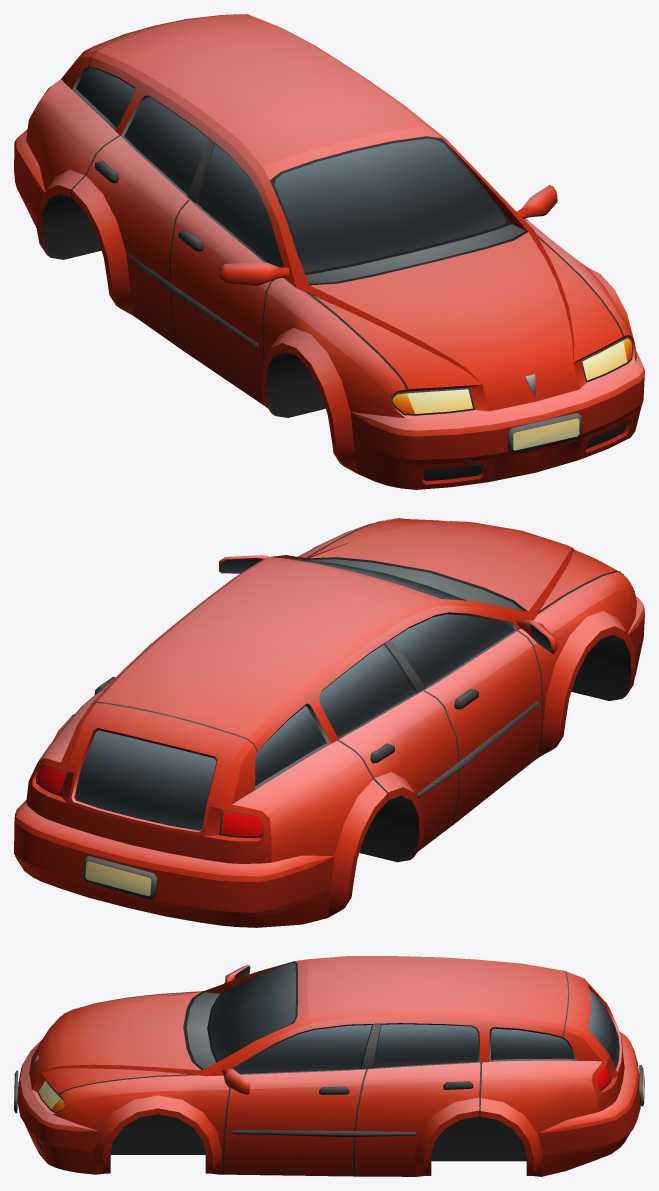
Rendered from Car_1.fbx.
The picture shows the model from 3 angles, top to bottom: view 1: azimuth 30°, elevation 25°; view 2: azimuth 150°, elevation 25°; view 3: azimuth 270°, elevation 25°; orthographic projection. The views are drawn at different scales.
Parts seen in each view (by area): view 1: car_1; view 2: car_1; view 3: car_1.
Boxes of the visible parts, x1,y1,x2,y2 form: car_1: (14, 14, 644, 489); car_1: (14, 518, 644, 927); car_1: (14, 956, 644, 1176).
Size of the model in its own units: 194 by 111 by 429.
1 material, 1 textured.
